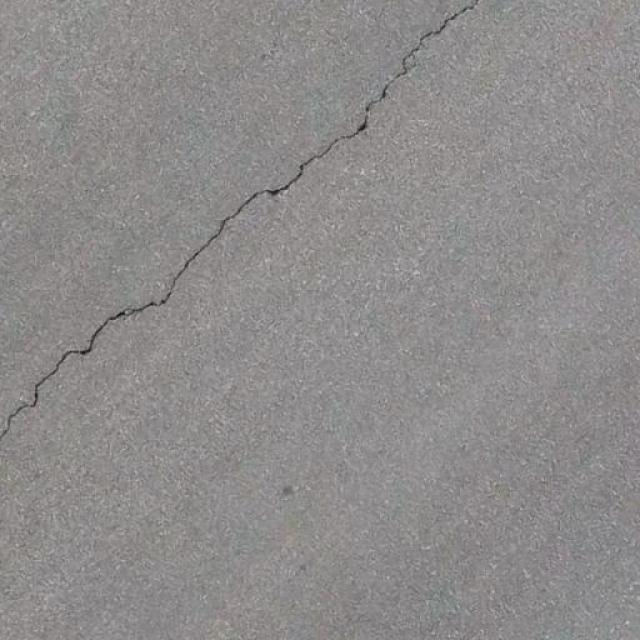Crack: (197, 0, 488, 226), (0, 203, 244, 448)
